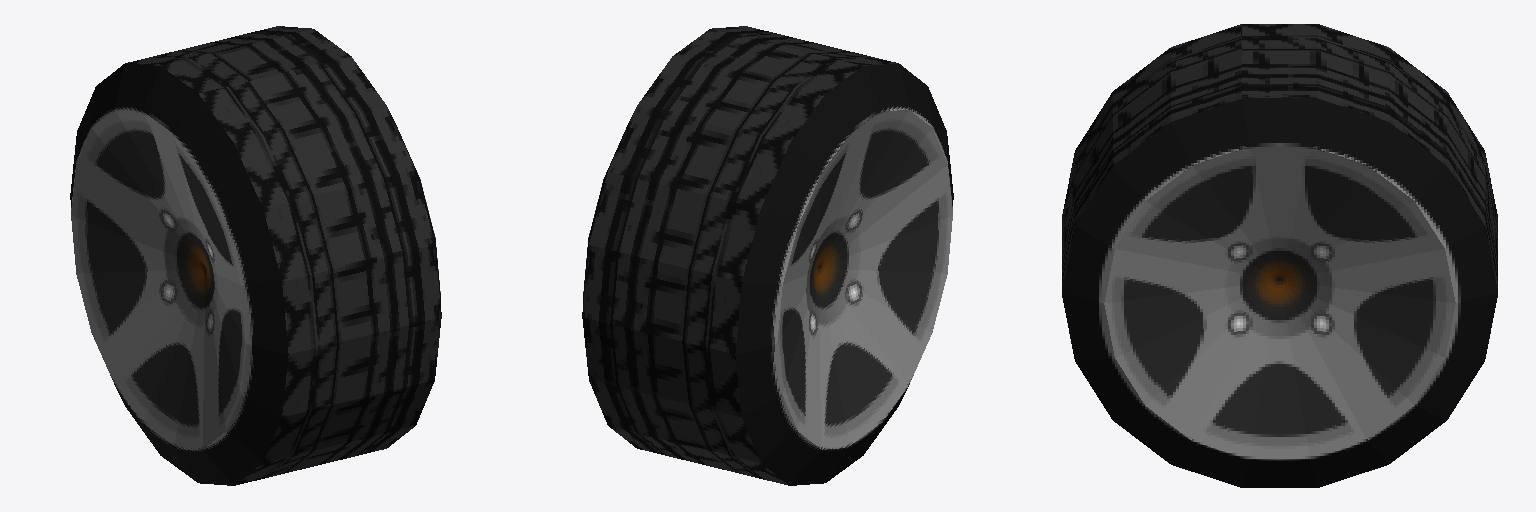
3 renders of one model, left to right at view 1: azimuth 30°, elevation 25°; view 2: azimuth 150°, elevation 25°; view 3: azimuth 270°, elevation 25°, orthographic.
Parts seen in each view (by area): view 1: wheel_Cylinder01x; view 2: wheel_Cylinder01x; view 3: wheel_Cylinder01x.
Part boxes in pixels (x1,y1,x2,y2): wheel_Cylinder01x: (70, 26, 441, 485); wheel_Cylinder01x: (582, 26, 953, 485); wheel_Cylinder01x: (1062, 24, 1497, 487).
Bounding box in the file's own units: 30.68 × 58.78 × 59.69.
Materials: 1 (1 with a texture image).